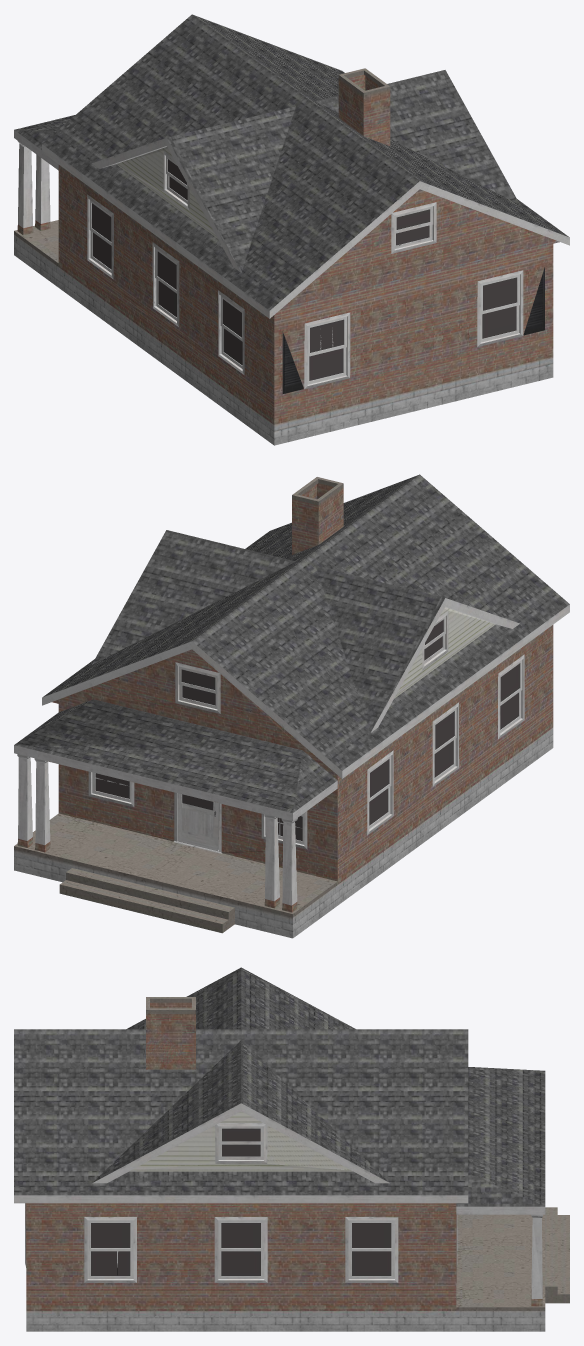
The model's file is brick_cottage.glb.
3 renders of one model, top to bottom at view 1: azimuth 30°, elevation 25°; view 2: azimuth 150°, elevation 25°; view 3: azimuth 270°, elevation 25°, orthographic.
Visible parts, largest first — view 1: brick_cottage_lo; view 2: brick_cottage_lo; view 3: brick_cottage_lo.
Boxes of the visible parts, x1,y1,x2,y2 form: brick_cottage_lo: (14,14,569,445); brick_cottage_lo: (14,474,569,938); brick_cottage_lo: (14,967,569,1331).
Bounding box in the file's own units: 8.09 × 7.01 × 13.
Materials: 1 (1 with a texture image).
